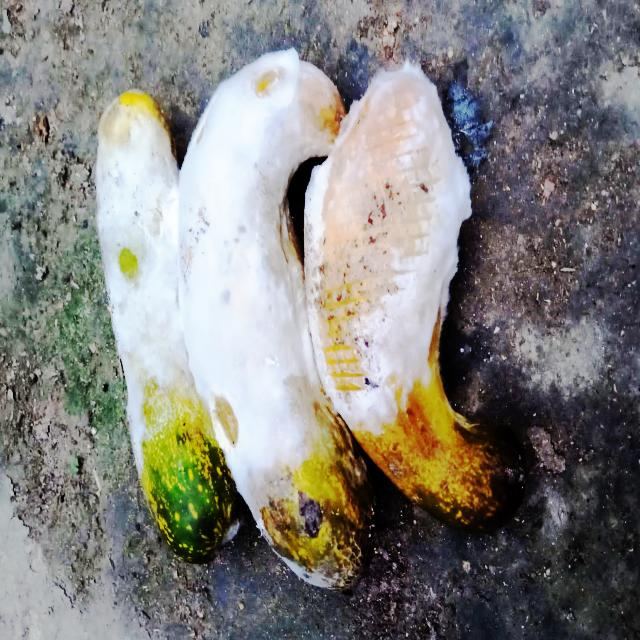Pythium-Fruit-Rot: (176, 46, 316, 593), (303, 61, 469, 421), (96, 100, 189, 478)
